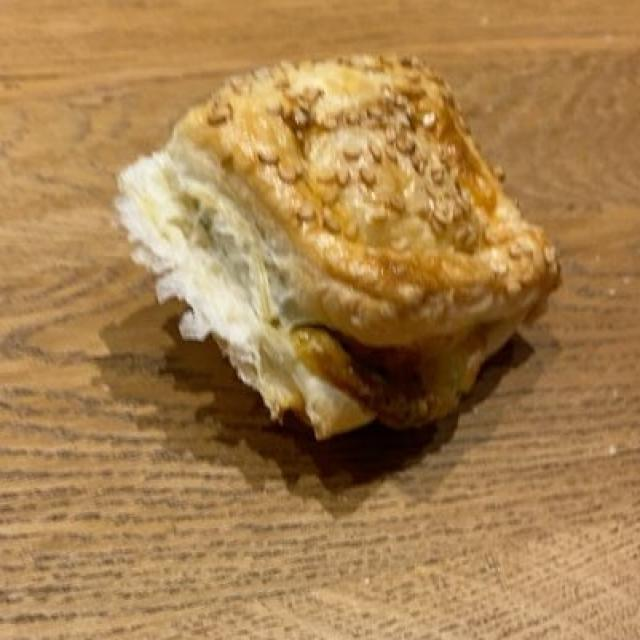savoury-puff-pastry: (97, 59, 545, 450)
